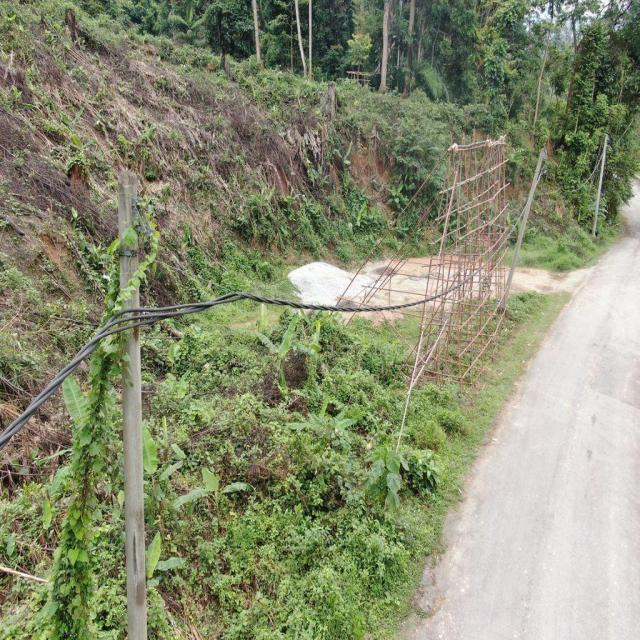critical vegetation: (46, 208, 164, 631)
